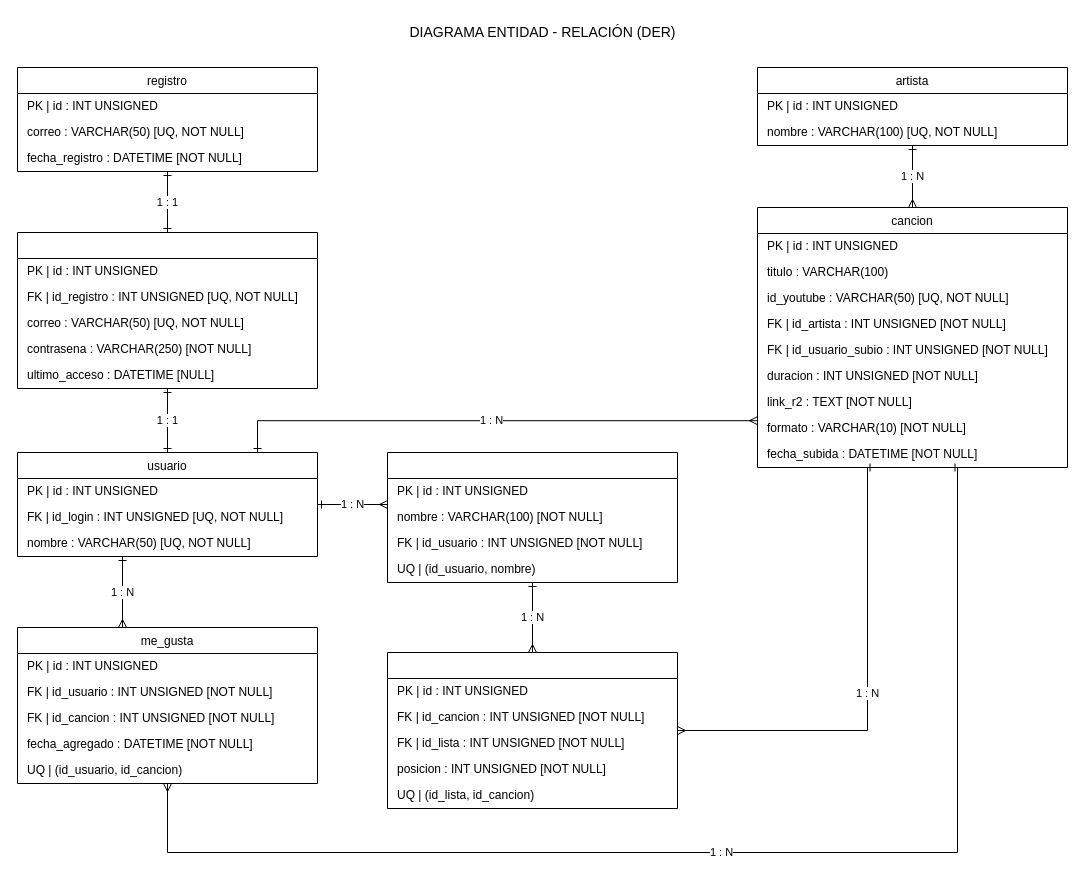
Some shapes in this 1085 by 879 pixel diagram are drawn without their labels. Here are the shapes that lost their labels. From the top down, the box of each, then its label:
(16, 232, 318, 388): login
(386, 452, 678, 582): lista
(386, 652, 678, 808): detalle_lista
